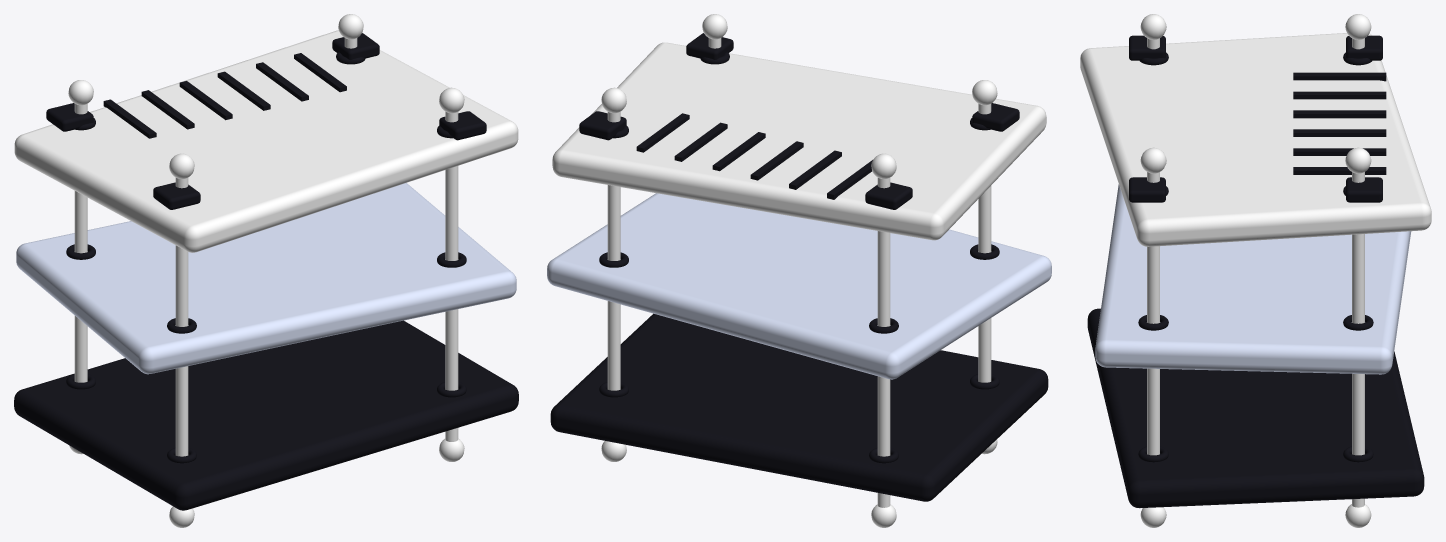
Rendered from services.glb.
3 views of the same model, side by side, from view 1: azimuth 30°, elevation 25°; view 2: azimuth 150°, elevation 25°; view 3: azimuth 270°, elevation 25° (orthographic).
Parts seen in each view (by area): view 1: dark_base, chrome_top, glass_mid, chrome_pins, dark_collars; view 2: dark_base, chrome_top, glass_mid, chrome_pins, dark_collars; view 3: chrome_top, dark_base, glass_mid, chrome_pins, dark_collars.
Boxes of the visible parts, x1,y1,x2,y2 form: dark_base: [14, 33, 518, 510]; chrome_top: [14, 30, 518, 252]; glass_mid: [16, 183, 516, 374]; chrome_pins: [68, 14, 464, 527]; dark_collars: [66, 52, 466, 463]; dark_base: [550, 33, 1048, 501]; chrome_top: [552, 42, 1046, 240]; glass_mid: [547, 193, 1051, 379]; chrome_pins: [601, 14, 997, 527]; dark_collars: [599, 52, 999, 463]; chrome_top: [1080, 33, 1431, 246]; dark_base: [1087, 35, 1424, 508]; glass_mid: [1095, 184, 1411, 374]; chrome_pins: [1140, 14, 1371, 527]; dark_collars: [1138, 52, 1373, 462].
Bounding box in the file's own units: 2.48 × 2.24 × 1.89.
